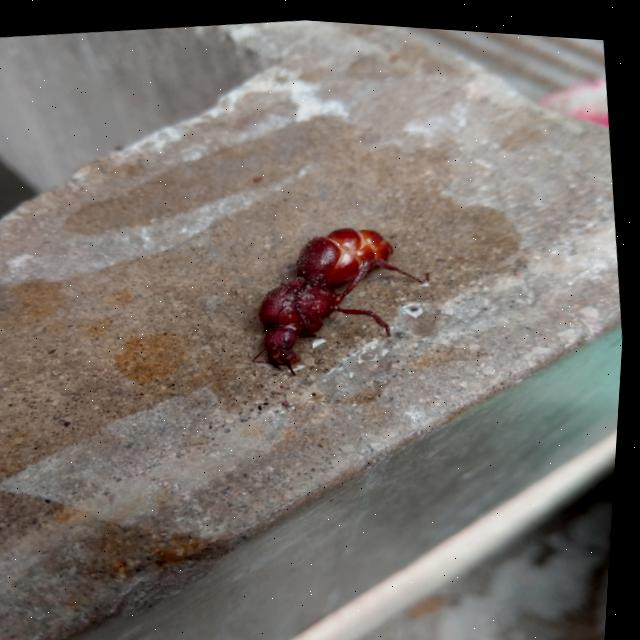Dead-Female-Dealate: (239, 207, 446, 385)
